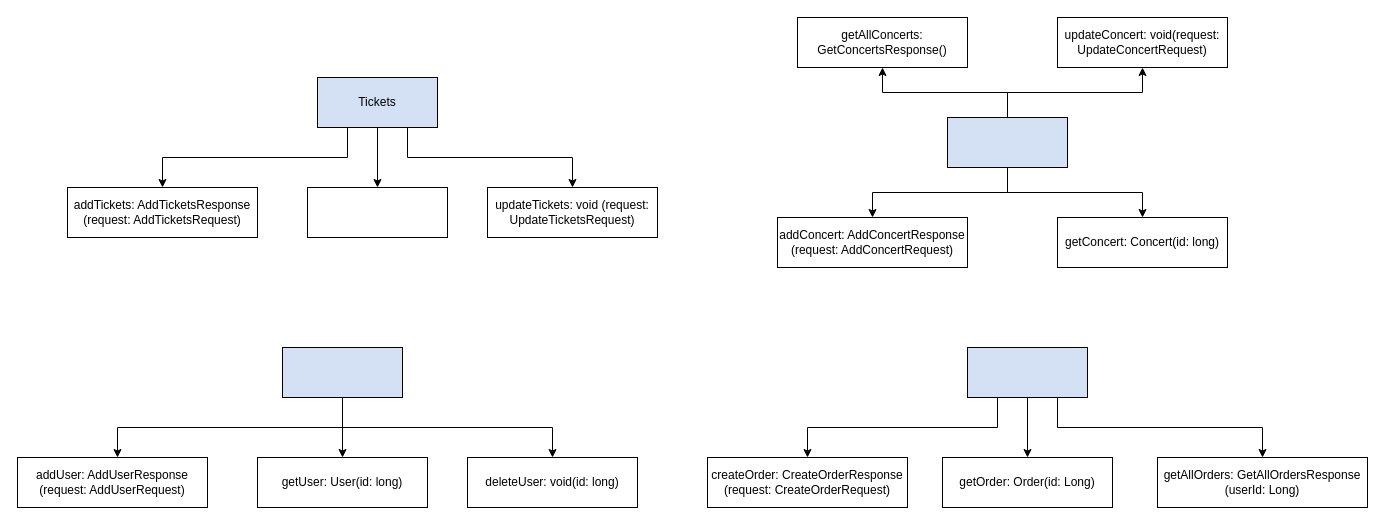
Image size: 1385x525. Some labels were removed from this diagram. Each missing label, with the centre of its shape:
Concerts: the point at 1007,142
getTickets: List<Ticket> (orderId: long): the point at 377,212
Orders: the point at 1027,372
Users: the point at 342,372
